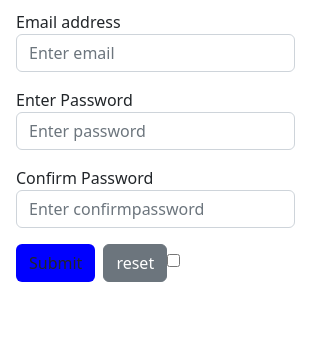
Test: App Component Error Handling › should show password error if password is less than 5 characters
Step 1. Type "vajaganidhanesh@gmail.com" into the field labelled "Email address" → (156, 53), box 16,34 -> 295,72
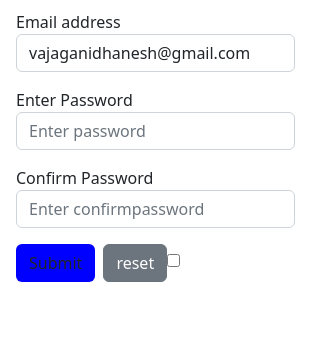
Step 2. Type "123" into the password field labelled "Enter Password" → (156, 131), box 16,112 -> 295,150
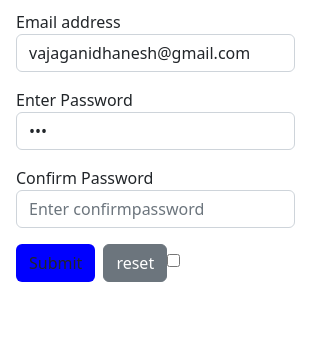
expect the text "the password you entered should contain 5 or more characters" is not shown: met
Step 3. Click the button "Submit" → click(56, 263), box 16,244 -> 95,282
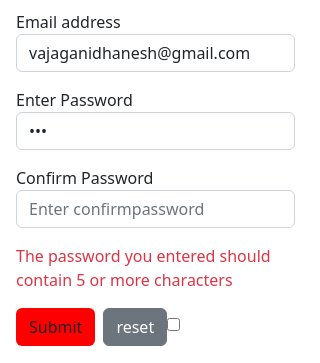
expect the text "The password you entered should contain 5 or more characters" is shown: met, box 16,244 -> 295,292
